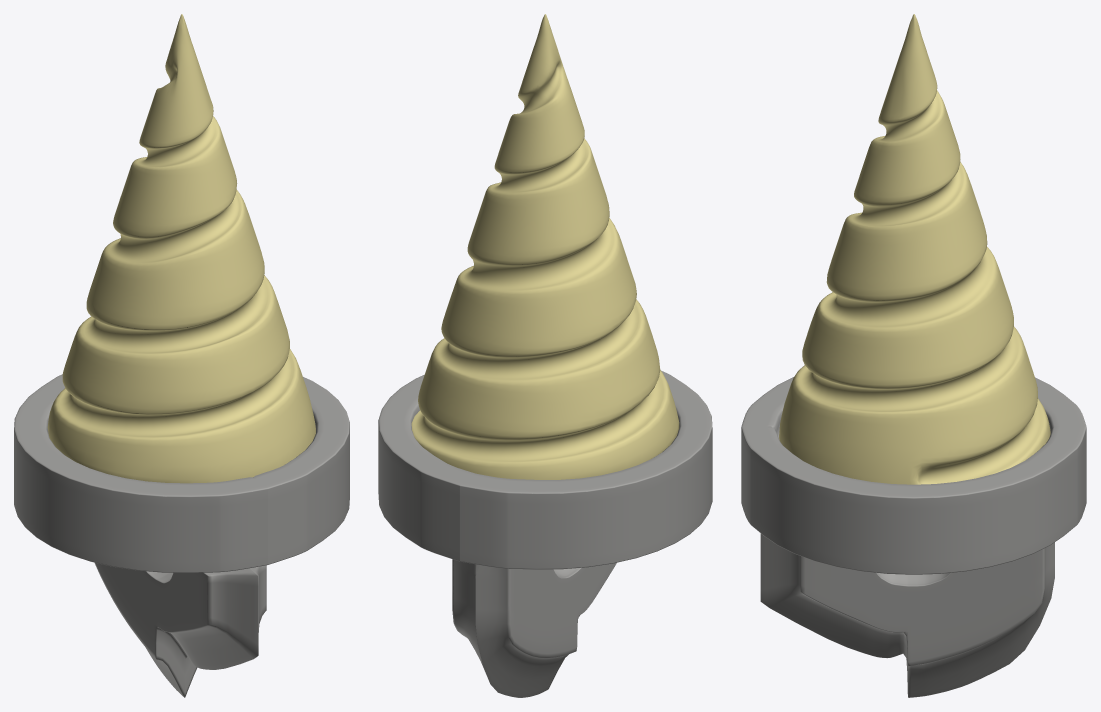
Rendered from DrillCustom.fbx.
3 renders of one model, left to right at view 1: azimuth 30°, elevation 25°; view 2: azimuth 150°, elevation 25°; view 3: azimuth 270°, elevation 25°, orthographic.
Parts seen in each view (by area): view 1: FINAL_DRILL, HIgh_Poly_Handle; view 2: FINAL_DRILL, HIgh_Poly_Handle; view 3: FINAL_DRILL, HIgh_Poly_Handle.
Part boxes in pixels (x1=…): FINAL_DRILL: x1=47, y1=14, x2=315, y2=483; HIgh_Poly_Handle: x1=14, y1=374, x2=349, y2=697; FINAL_DRILL: x1=411, y1=14, x2=679, y2=479; HIgh_Poly_Handle: x1=378, y1=370, x2=712, y2=697; FINAL_DRILL: x1=779, y1=14, x2=1050, y2=484; HIgh_Poly_Handle: x1=741, y1=377, x2=1086, y2=697.
Bounding box in the file's own units: 86.92 × 194 × 88.98.
